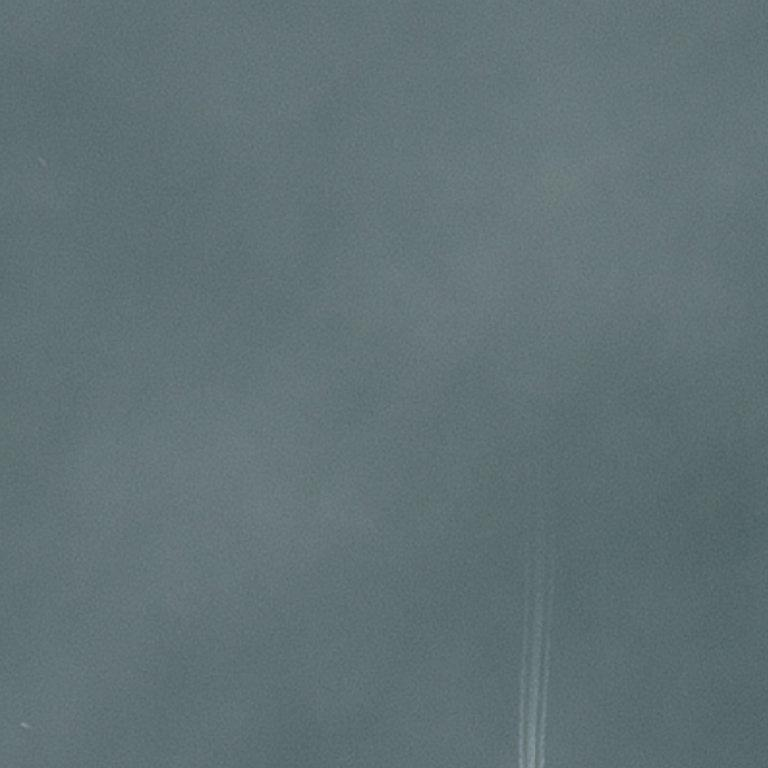ship: (16, 717, 36, 736), (41, 151, 45, 157), (20, 721, 23, 726), (38, 156, 40, 160), (3, 729, 7, 730), (42, 165, 46, 166), (46, 8, 48, 10), (29, 726, 35, 726)
